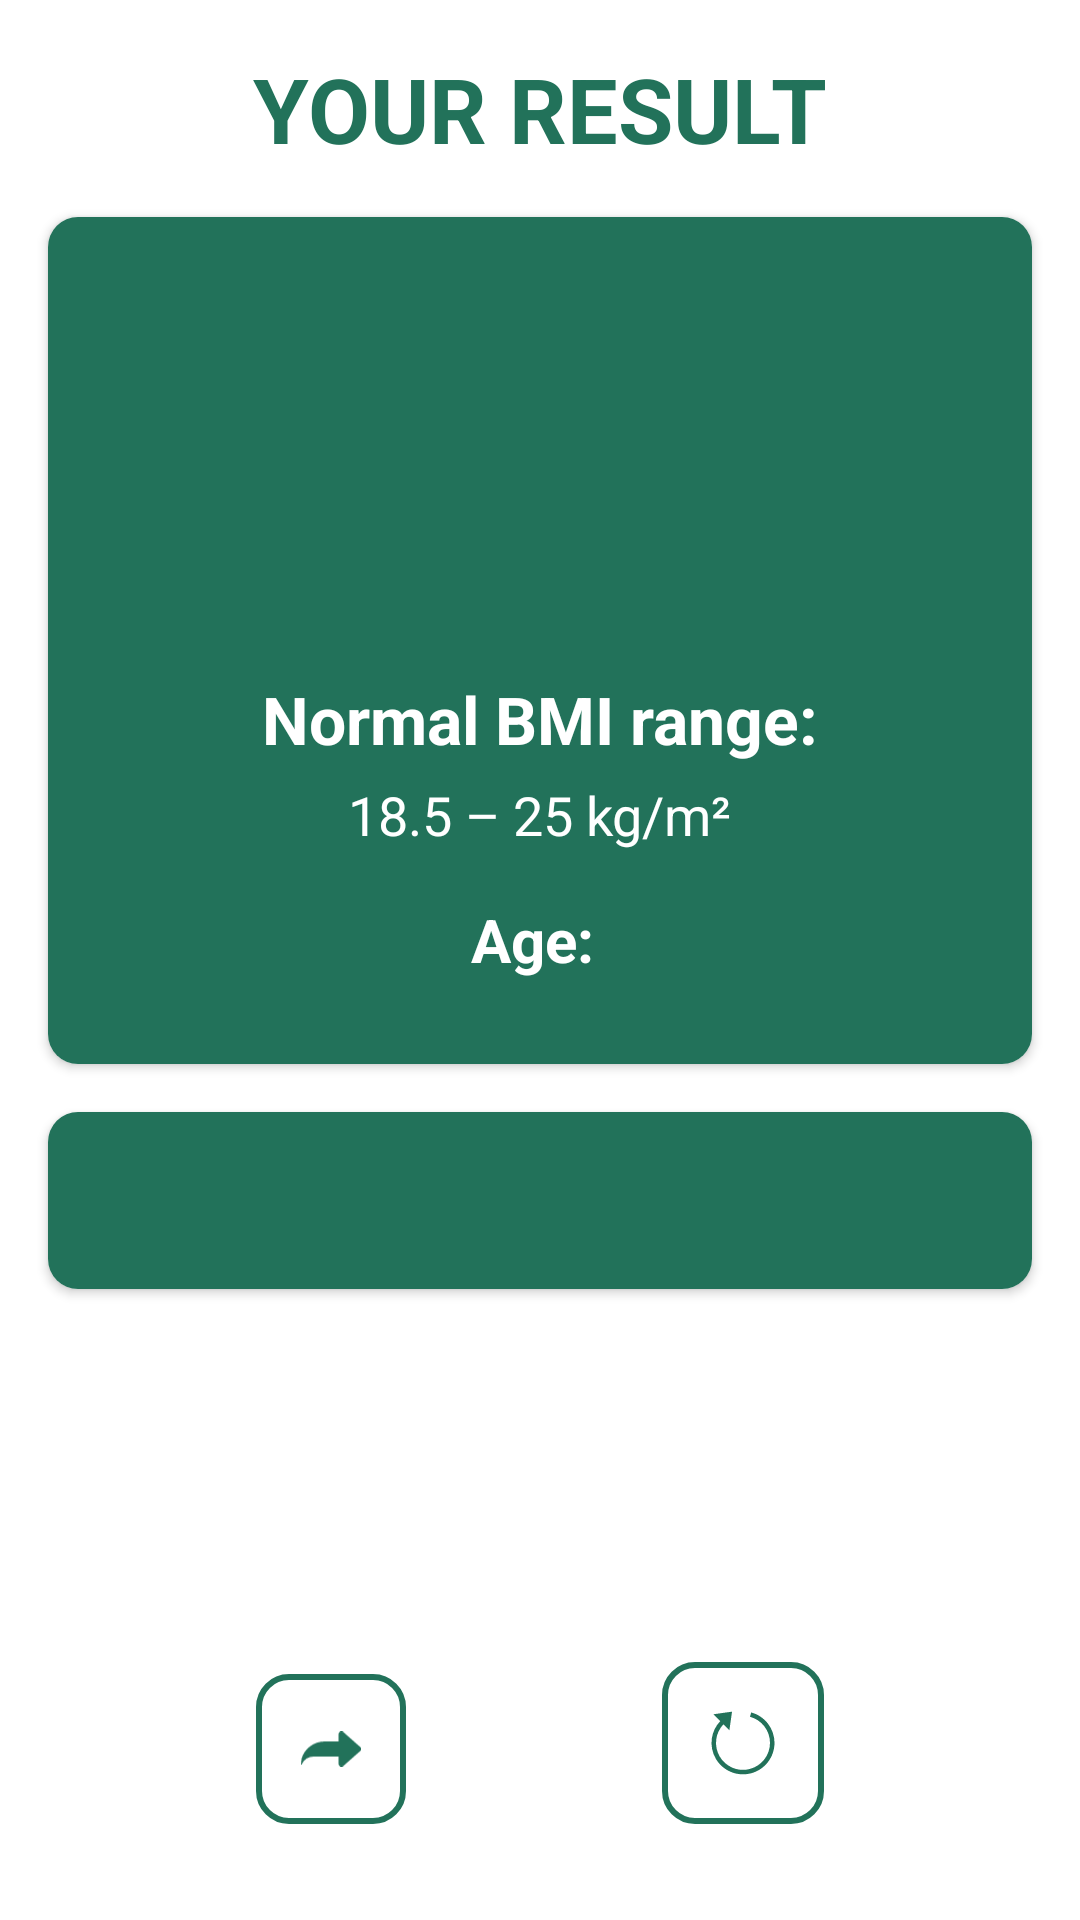

Screen size 1080px x 1920px. Icon name, then its box in pixels as box=[x1, y1, x2, y2]:
Distribuie rezultatul: box=[256, 1674, 406, 1824]
Recalculate: box=[662, 1662, 824, 1824]
